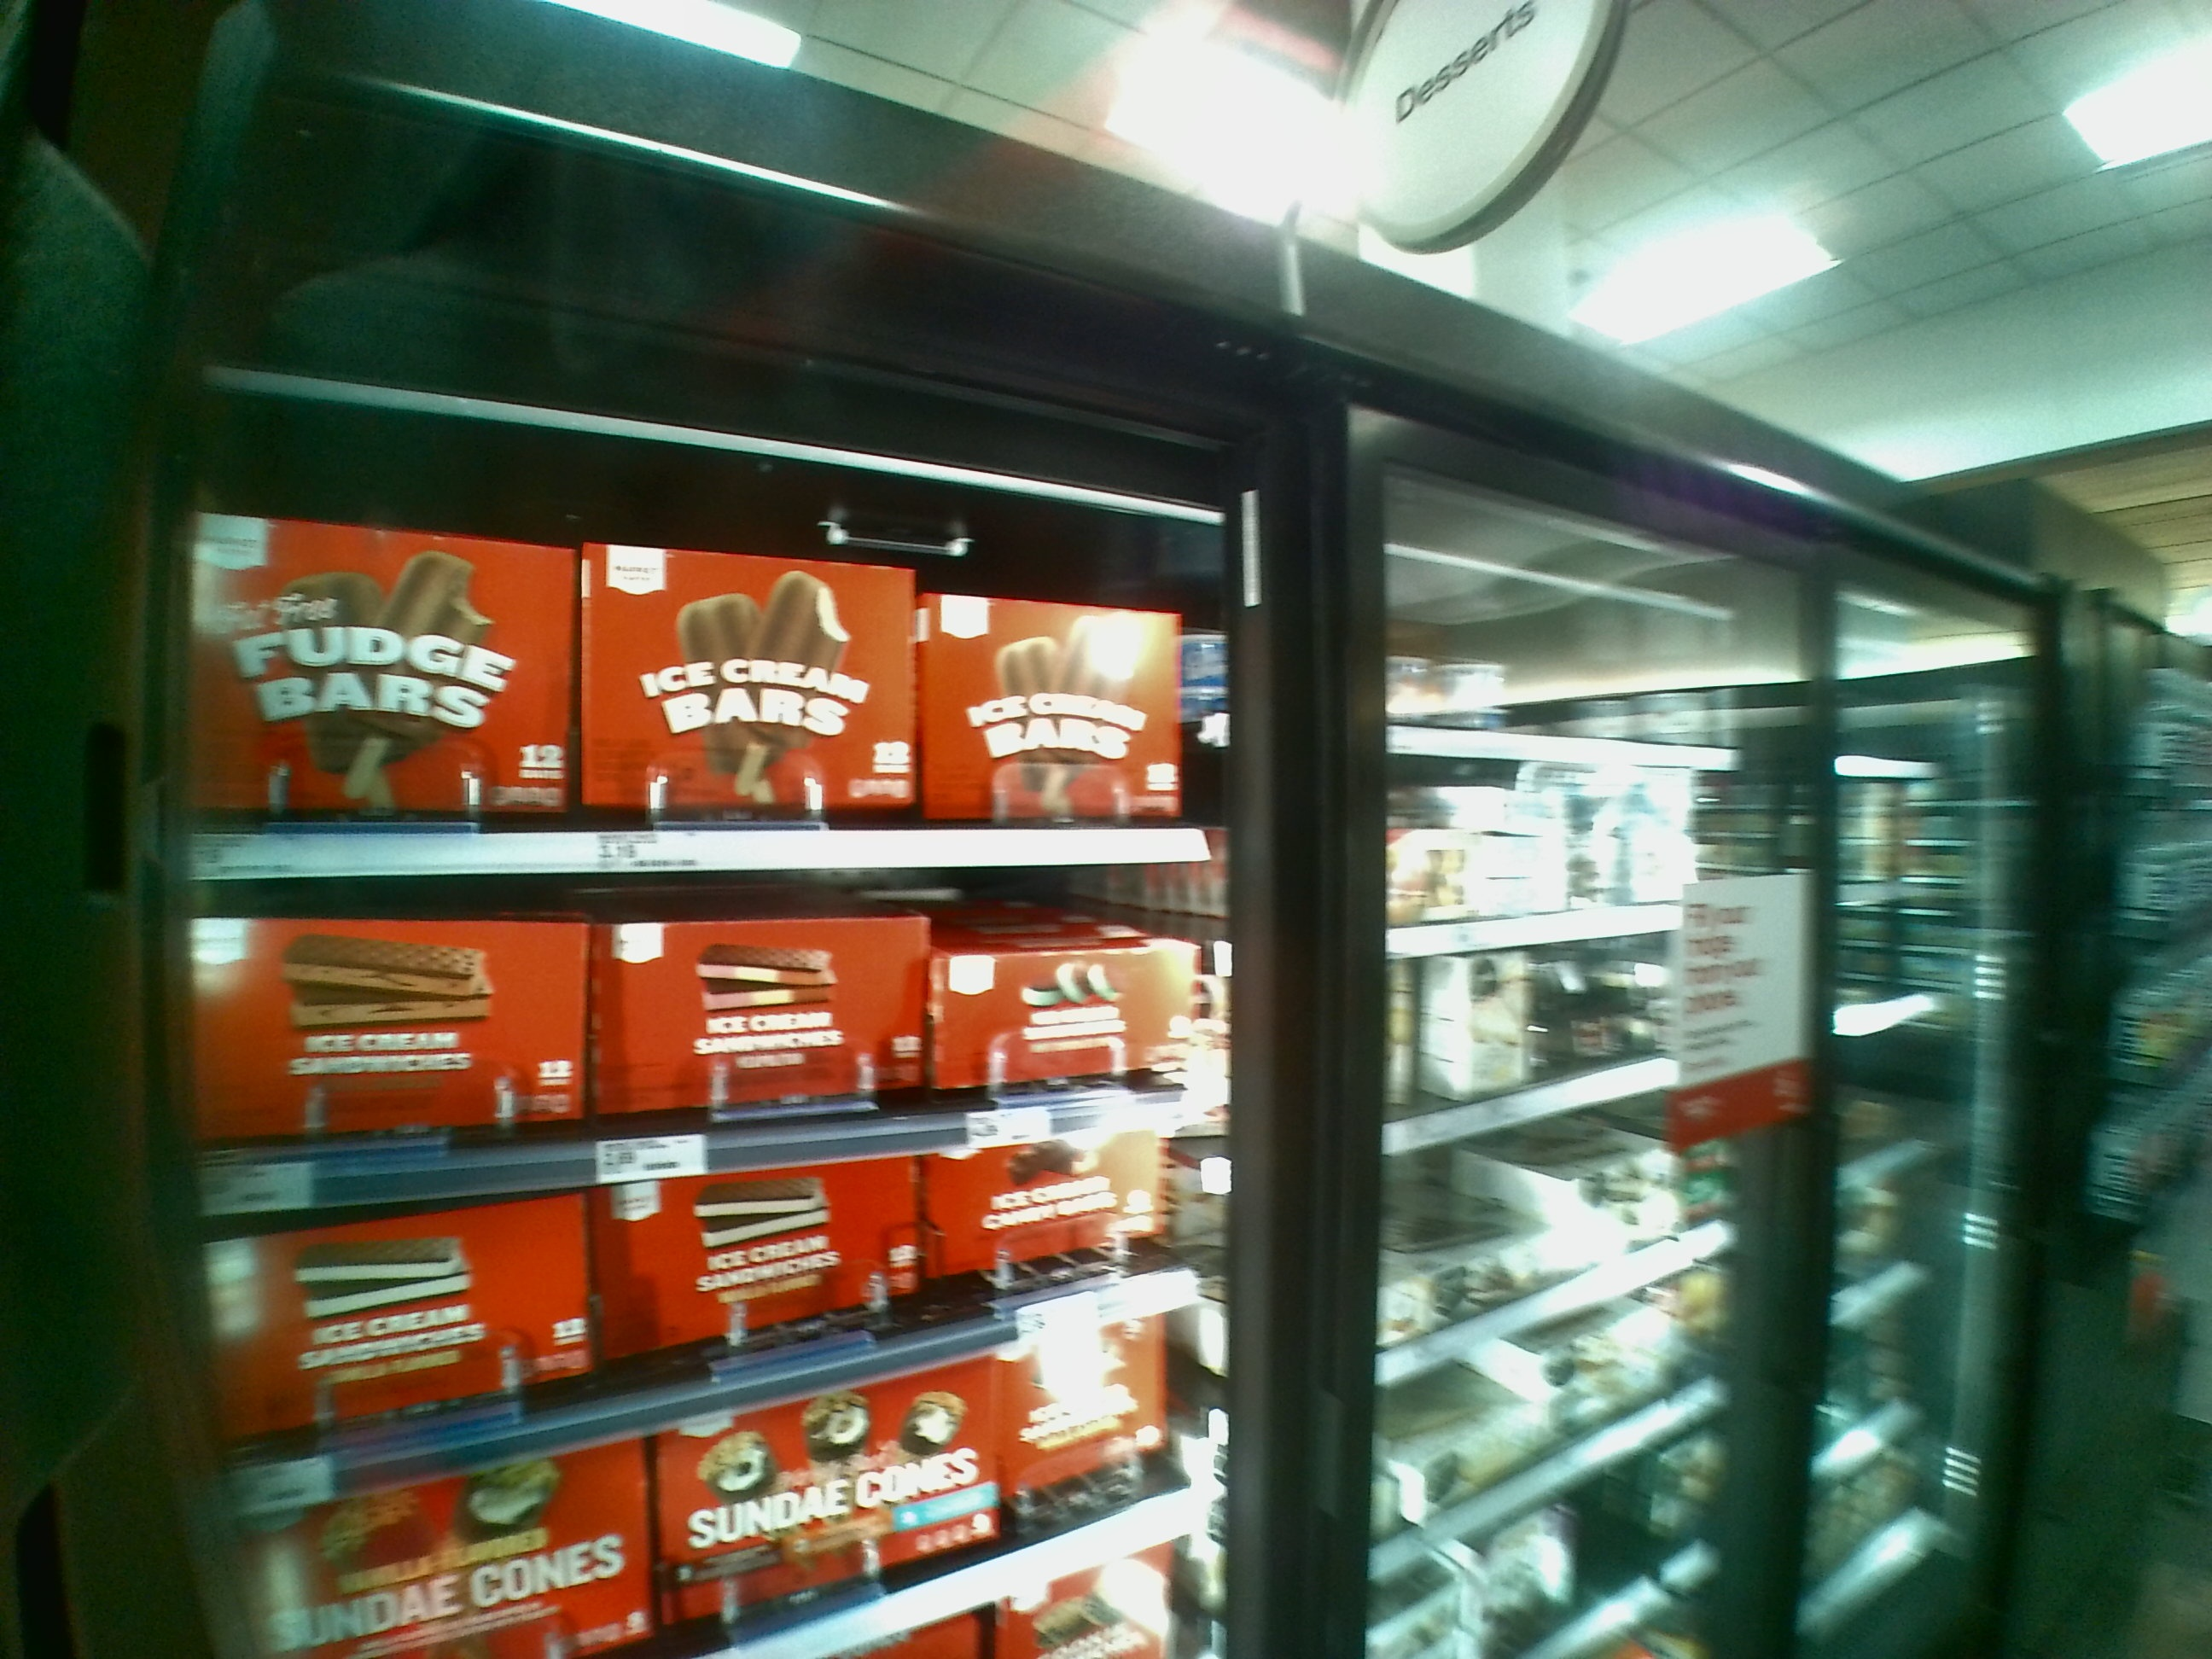shelf: (178, 443, 1198, 877), (186, 892, 1254, 1157), (207, 1140, 1231, 1399)
